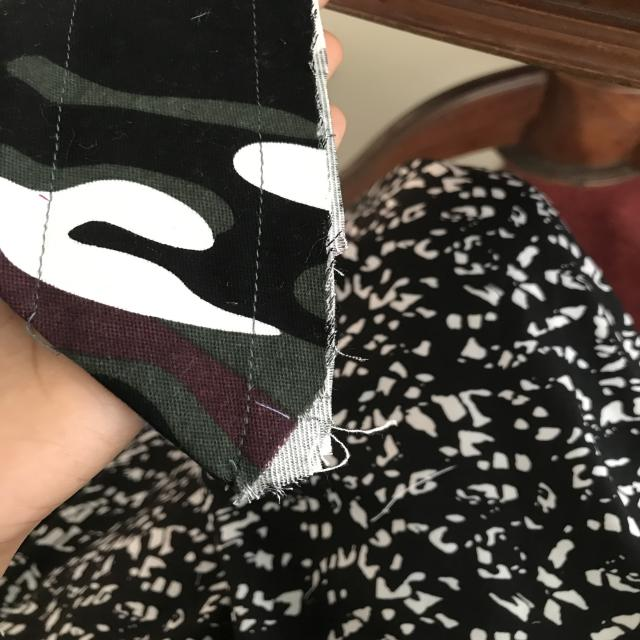good: (242, 224, 278, 293)
